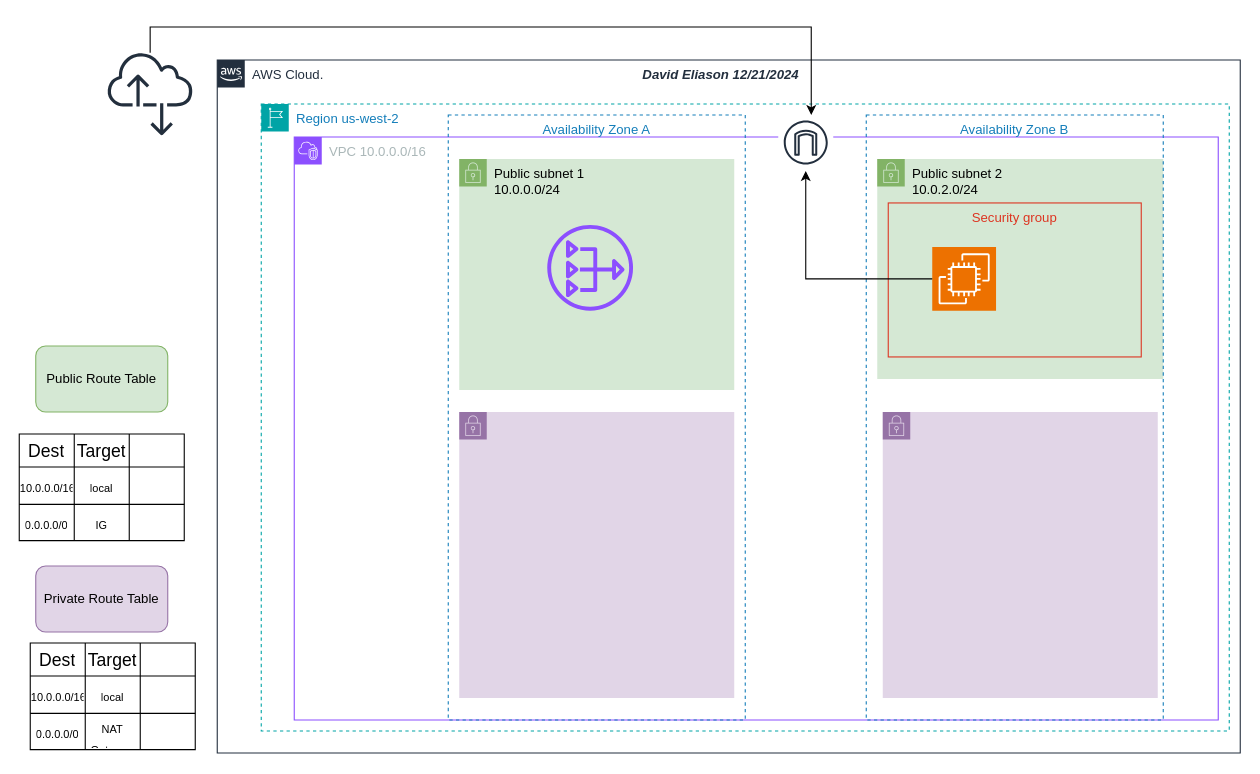
Image size: 1260x774. Some labels were removed from this diagram. The shapes that lost their labels are listed below. From the top down, each one's centre as x and y in pixels, then its label:
At point (805, 142): "Internet gateway".
At point (596, 554): "Private subnet 1 10.0.1.0/24".
At point (1020, 554): "Private subnet 2 10.0.3.0/24".
